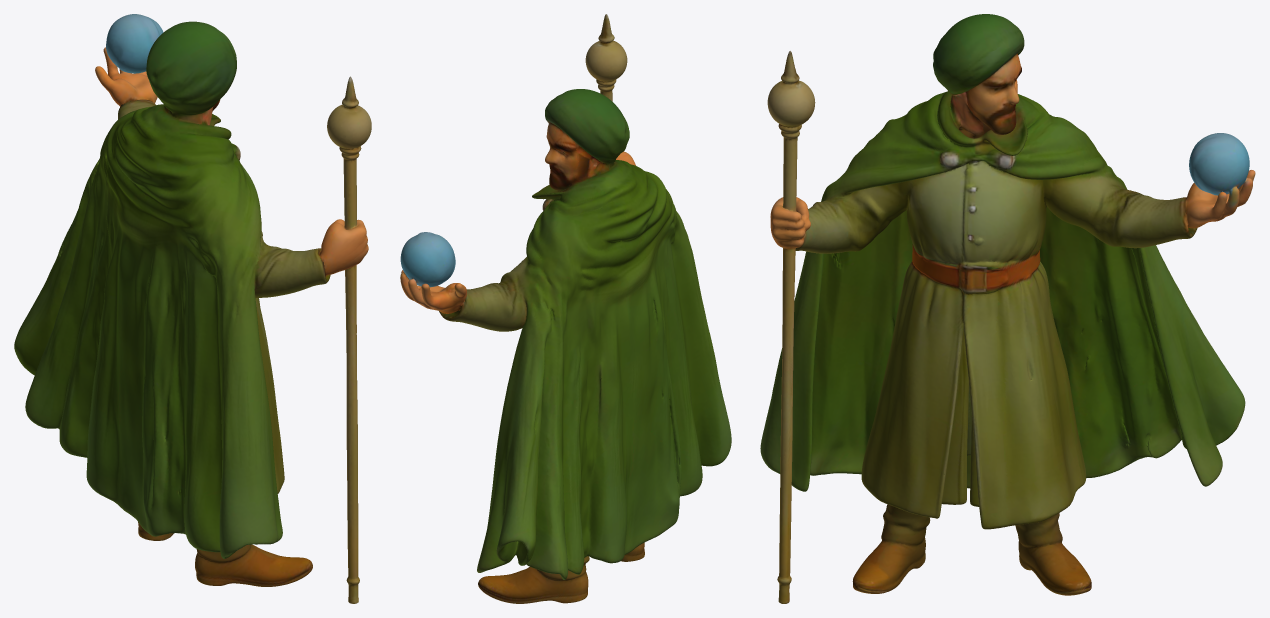
The picture shows the model from 3 angles, left to right: view 1: azimuth 30°, elevation 25°; view 2: azimuth 150°, elevation 25°; view 3: azimuth 270°, elevation 25°; orthographic projection. The views are drawn at different scales.
Parts seen in each view (by area): view 1: tripo_node_98188bfe-1c4b-40ad-923d-9a81db5ac0f5; view 2: tripo_node_98188bfe-1c4b-40ad-923d-9a81db5ac0f5; view 3: tripo_node_98188bfe-1c4b-40ad-923d-9a81db5ac0f5.
Boxes of the visible parts, <box> form: tripo_node_98188bfe-1c4b-40ad-923d-9a81db5ac0f5: <box>14,14,371,603</box>; tripo_node_98188bfe-1c4b-40ad-923d-9a81db5ac0f5: <box>400,14,731,603</box>; tripo_node_98188bfe-1c4b-40ad-923d-9a81db5ac0f5: <box>760,14,1255,603</box>.
Size of the model in its own units: 0.3175 by 1 by 0.8087.
Materials: 1 (1 with a texture image).
